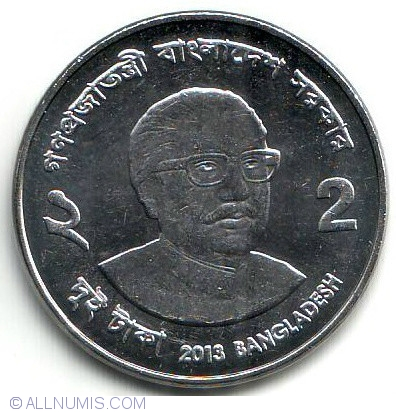5 taka coin: (14, 12, 385, 387)
